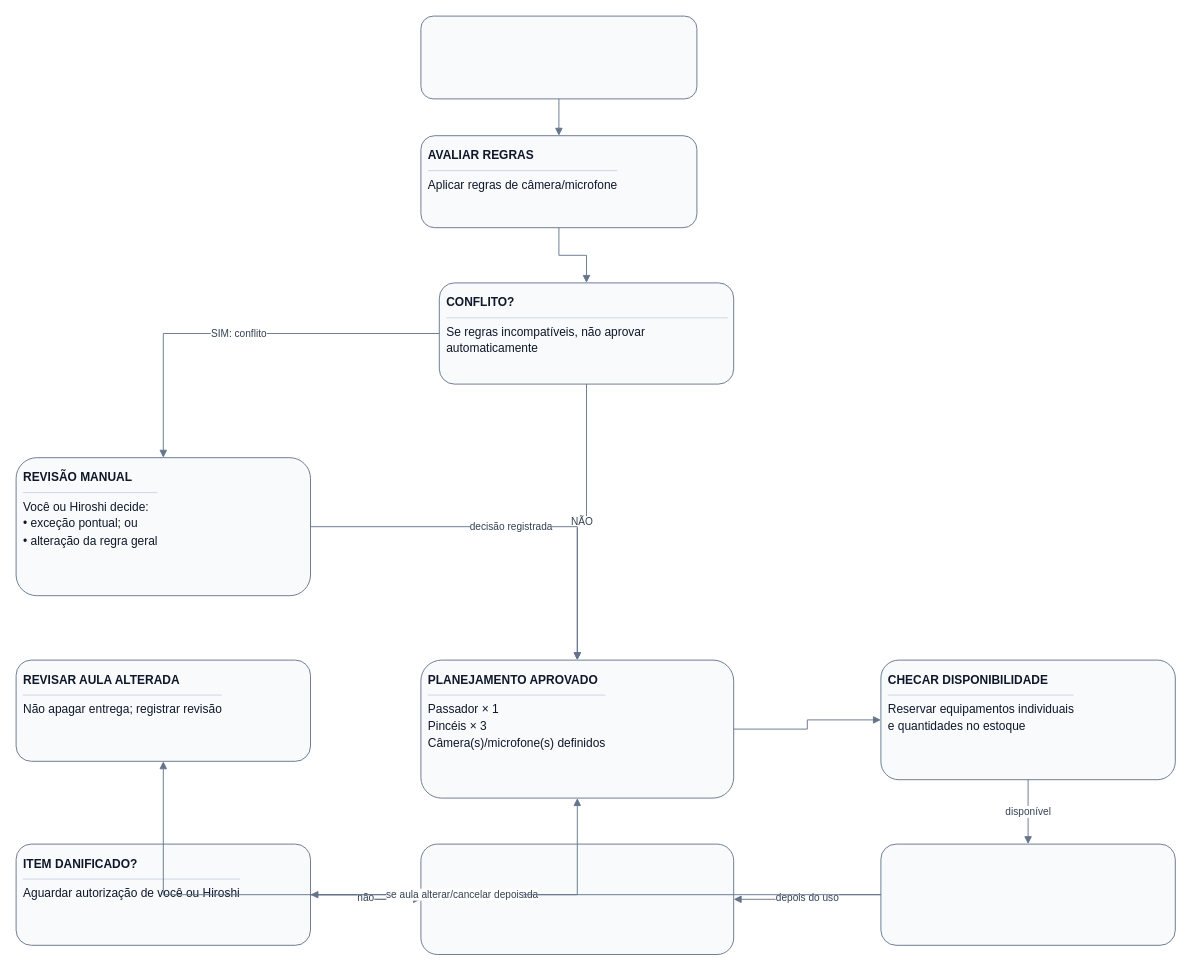
Image size: 1191x971. Some labels were removed from this diagram. The shapes that lost their labels are listed below. From the top down, each one's centre as x and y in pixels, then its label:
At pixel 558 57: "INICIAR Selecionar/cadastrar aula".
At pixel 577 898: "DEVOLUÇÃO PARCIAL Controlar retorno por equipamento e quantidade de pincéis".
At pixel 1027 894: "REGISTRAR ENTREGA Enviar link individual ao transmissor".
